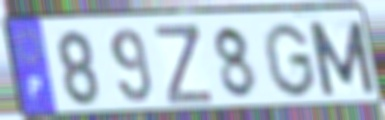8: (212, 24, 261, 101), (55, 28, 101, 108)
9: (108, 26, 155, 107)
G: (260, 21, 319, 100)
M: (304, 18, 379, 99)
Z: (151, 23, 216, 107)
